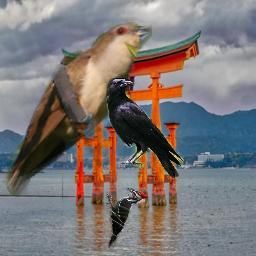Crow: (106, 78, 184, 179)
Cuckoo: (0, 22, 152, 201)
Woodpecker: (106, 188, 148, 248)
